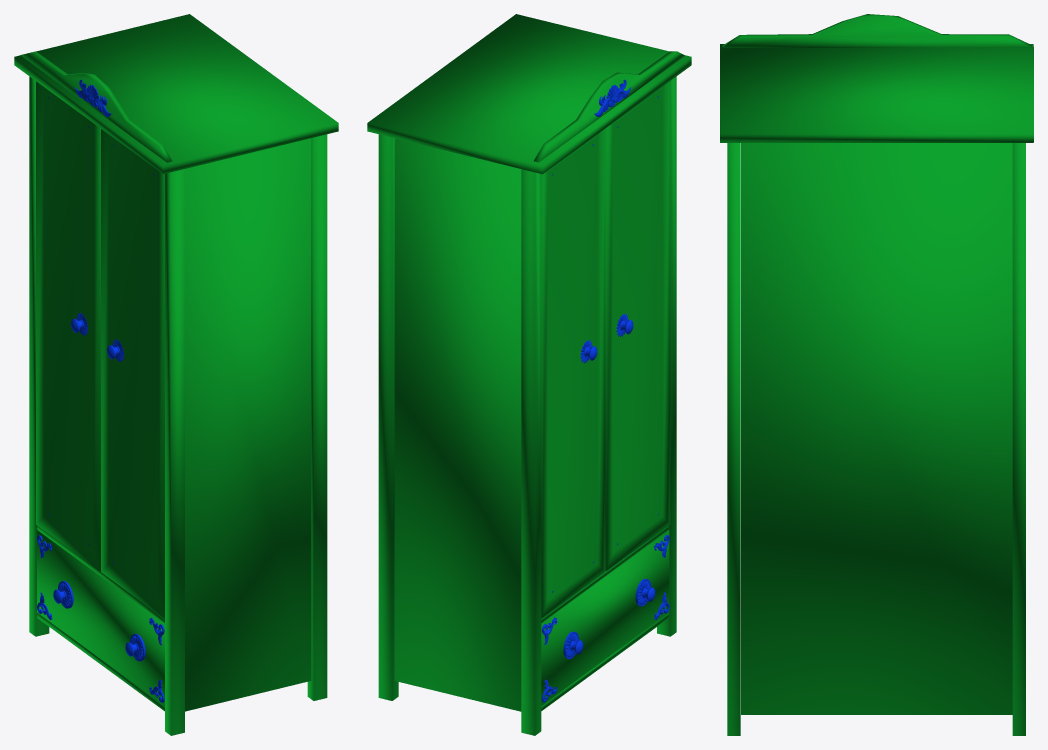
Rendered from Bush_HidingZone2.fbx.
3 renders of one model, left to right at view 1: azimuth 30°, elevation 25°; view 2: azimuth 150°, elevation 25°; view 3: azimuth 270°, elevation 25°, orthographic. The views are drawn at different scales.
Parts seen in each view (by area): view 1: OldSzafa_hull, OldSzafa_Ornaments; view 2: OldSzafa_hull, OldSzafa_Ornaments; view 3: OldSzafa_hull.
Boxes of the visible parts, <box> form: OldSzafa_hull: <box>14,14,338,735</box>; OldSzafa_Ornaments: <box>37,79,164,702</box>; OldSzafa_hull: <box>367,14,691,735</box>; OldSzafa_Ornaments: <box>542,79,669,702</box>; OldSzafa_hull: <box>720,14,1033,735</box>.
Size of the model in its own units: 63.6 by 210 by 93.46.
